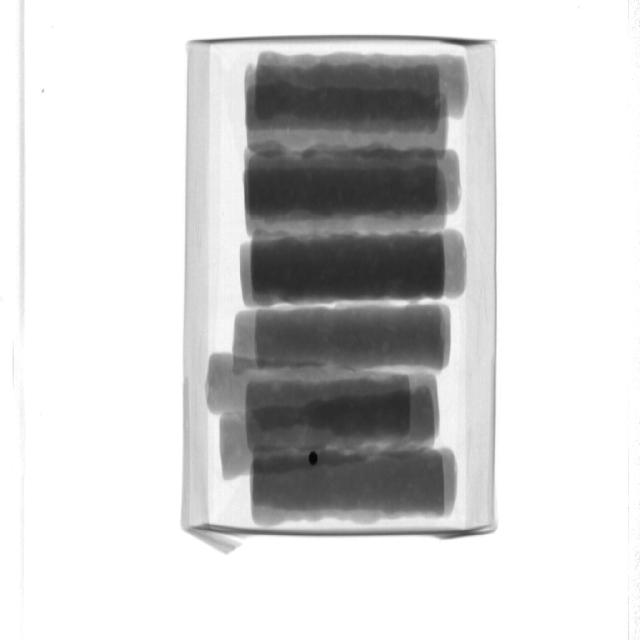ym: (310, 453, 320, 468)
